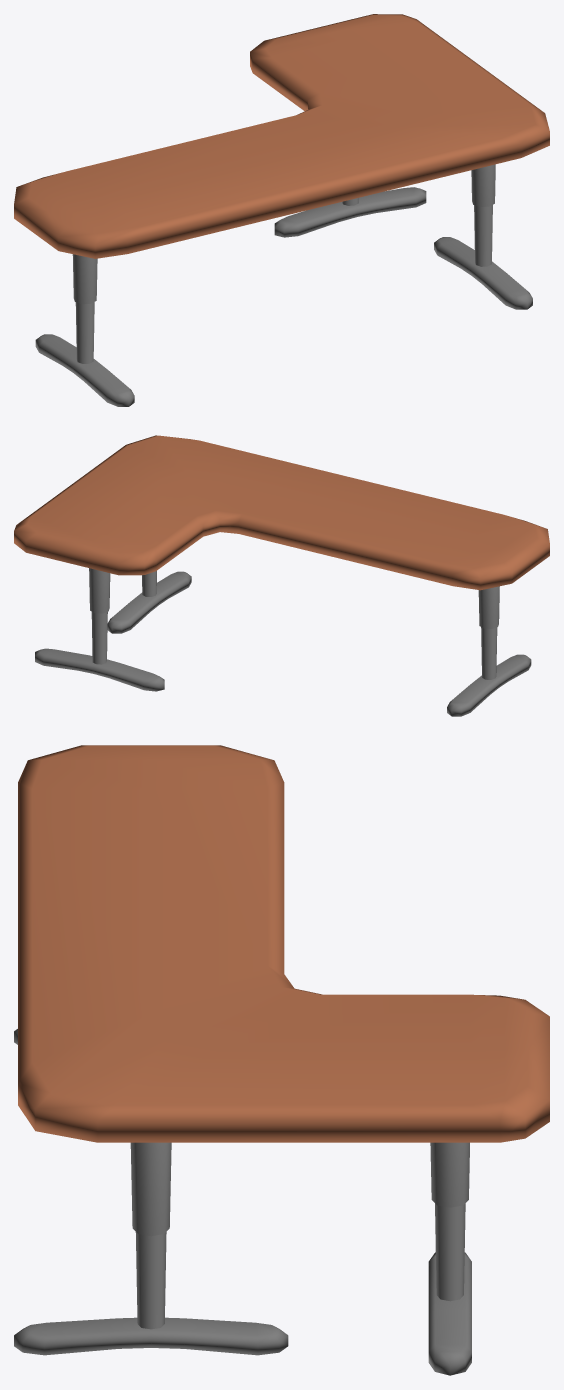
File: l_table.glb
3 views of the same model, one above another, from view 1: azimuth 30°, elevation 25°; view 2: azimuth 150°, elevation 25°; view 3: azimuth 270°, elevation 25° (orthographic). The views are drawn at different scales.
Visible parts, largest first — view 1: mesh_furniture_table_03; view 2: mesh_furniture_table_03; view 3: mesh_furniture_table_03.
Part boxes in pixels (<box>): mesh_furniture_table_03: <box>14,14,549,406</box>; mesh_furniture_table_03: <box>14,435,549,716</box>; mesh_furniture_table_03: <box>14,745,549,1375</box>.
Size of the model in its own units: 2.9 by 0.9656 by 1.75.
Materials: 1 (1 with a texture image).
